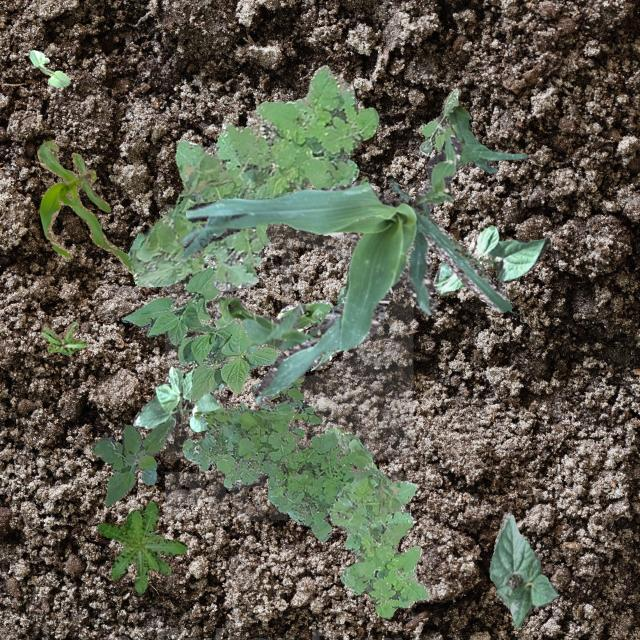crop: (180, 134, 510, 404), (120, 260, 280, 402), (36, 140, 132, 272), (218, 298, 334, 391), (432, 224, 548, 294), (488, 512, 558, 628), (132, 362, 222, 431), (212, 294, 320, 348), (446, 106, 526, 172), (28, 48, 68, 86), (336, 286, 344, 302)
weed: (126, 64, 378, 290), (182, 406, 380, 540), (324, 426, 429, 616), (96, 498, 186, 592), (90, 418, 174, 506), (224, 373, 320, 438), (418, 86, 459, 154), (40, 321, 86, 354)
